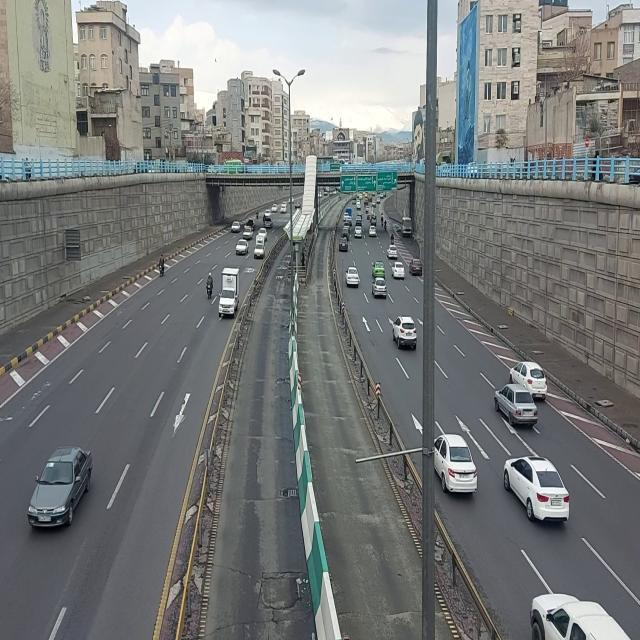Car: (26, 444, 94, 531), (525, 588, 633, 640), (502, 454, 572, 526), (435, 431, 481, 498), (493, 383, 537, 429), (508, 357, 548, 387), (392, 315, 418, 353), (371, 277, 387, 301), (346, 265, 360, 287), (392, 261, 406, 279), (409, 259, 423, 277), (372, 260, 386, 276), (236, 240, 250, 256), (387, 245, 399, 260), (338, 237, 348, 253), (231, 220, 241, 234), (265, 217, 274, 229), (369, 225, 377, 237), (354, 226, 362, 238), (355, 216, 363, 226), (346, 215, 354, 225), (280, 204, 288, 214), (272, 203, 279, 213), (295, 200, 302, 210), (264, 209, 272, 217), (356, 203, 362, 211), (377, 197, 381, 204)
Motorcycle: (206, 272, 214, 301), (158, 253, 164, 281), (390, 232, 394, 246), (384, 219, 388, 233), (256, 208, 260, 220), (381, 216, 384, 229), (363, 201, 366, 209)
Pickup: (217, 266, 239, 320), (253, 234, 265, 258), (242, 225, 254, 241), (371, 214, 378, 224)
